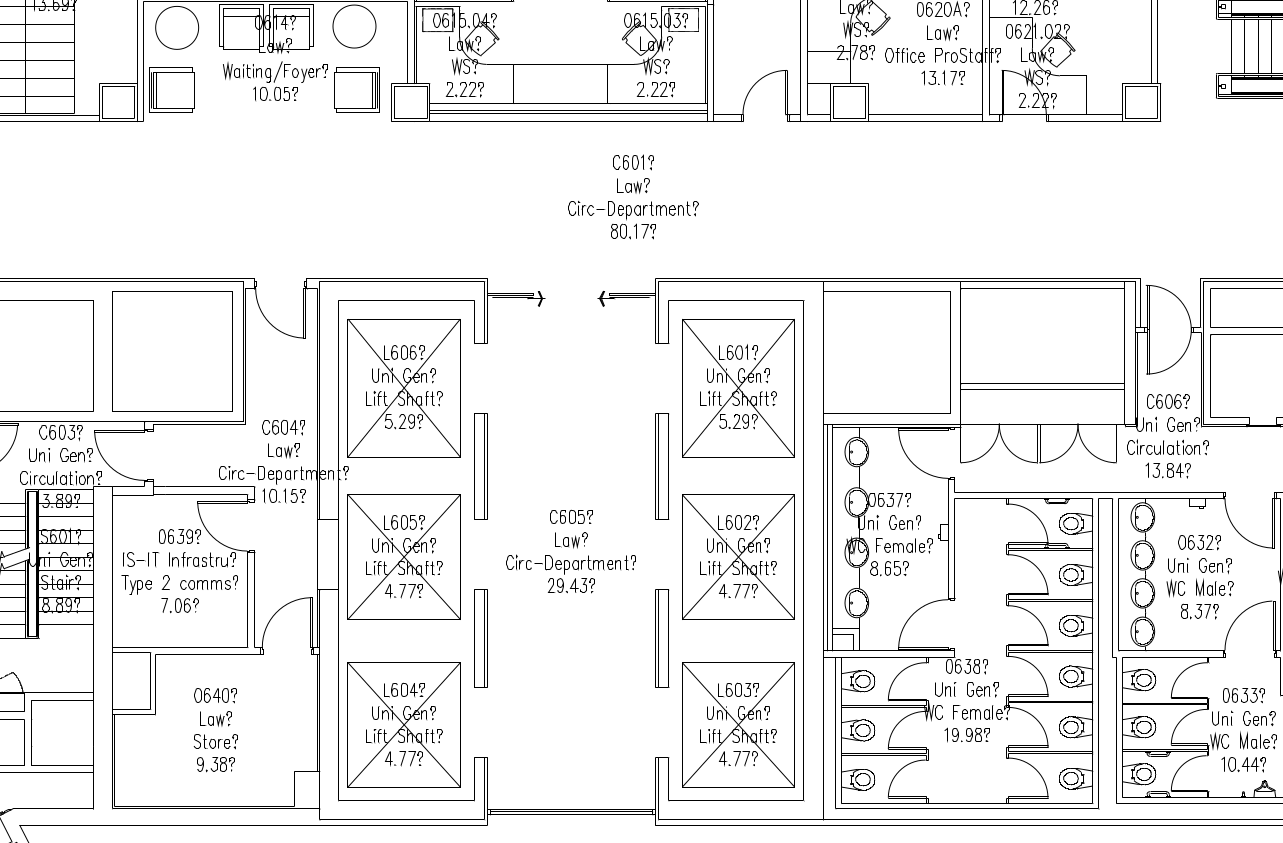door: (1142, 271, 1192, 382), (247, 273, 310, 347), (734, 57, 797, 131), (257, 590, 315, 664), (1221, 486, 1278, 558), (1222, 590, 1279, 662), (91, 427, 157, 483), (189, 499, 255, 555), (891, 596, 957, 650), (991, 67, 1049, 128), (894, 425, 956, 481), (1004, 500, 1054, 551), (1000, 548, 1050, 599), (1002, 598, 1052, 649), (1000, 648, 1050, 699), (1005, 698, 1055, 749), (1006, 749, 1056, 800), (882, 757, 929, 803), (883, 708, 930, 754), (883, 657, 930, 703), (1165, 656, 1212, 702), (1162, 703, 1209, 749), (1164, 751, 1211, 797), (957, 421, 1002, 469), (994, 422, 1039, 470), (1038, 422, 1079, 472), (1079, 423, 1120, 473)
